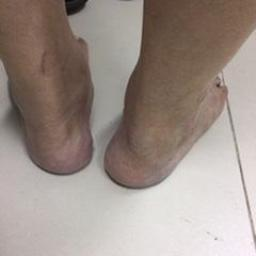Back View -Both Feet-: (4, 5, 246, 219)
